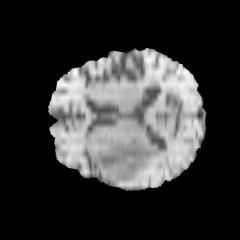glioma: (101, 136, 162, 181)
